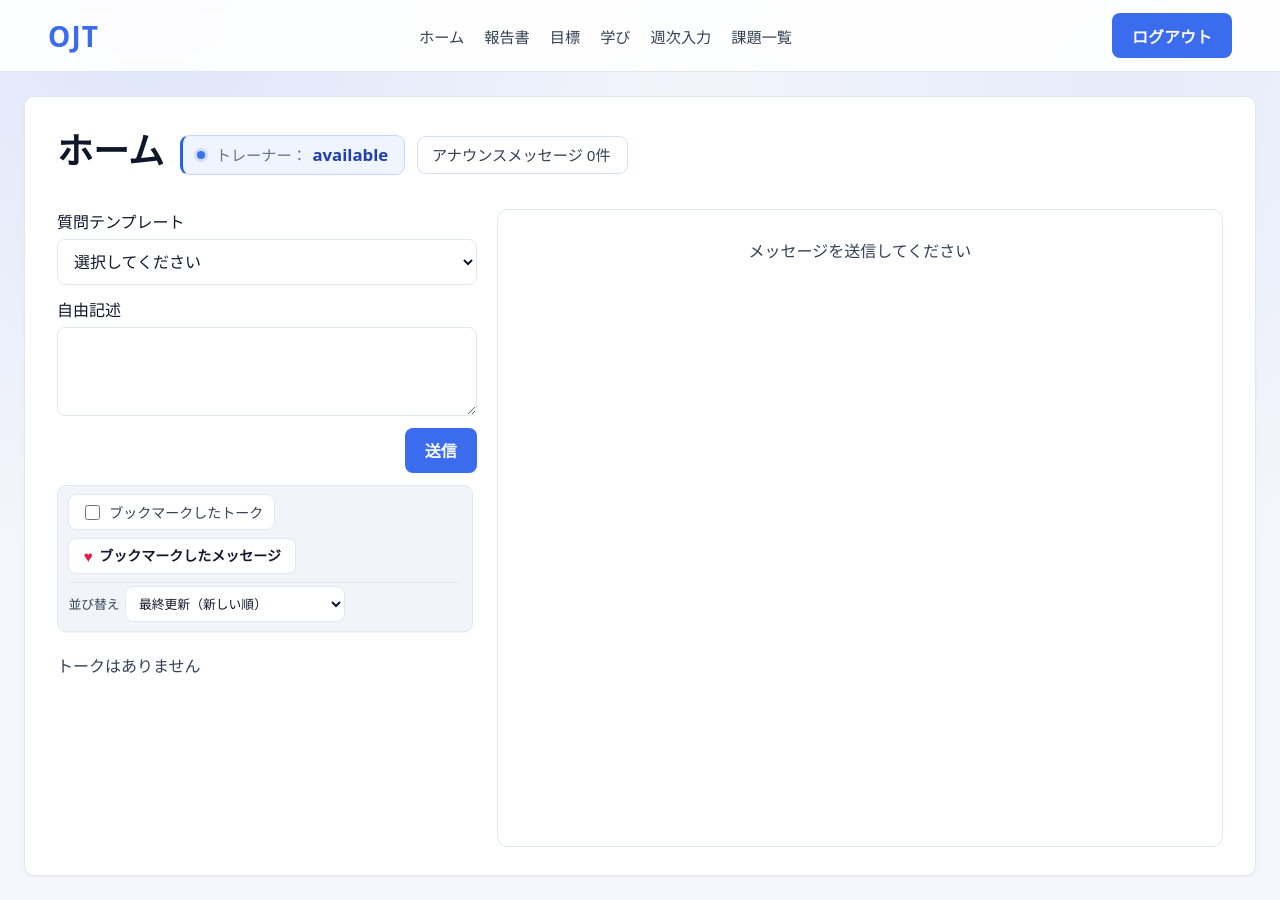
Test: 目標 UI › U-G25 新卒・ヘッダー「目標」からの遷移 › ヘッダー目標から遷移_goalsでガントが表示される
Step 1. Click the link "目標" → click(565, 36), box left=550, top=24, right=580, bottom=46
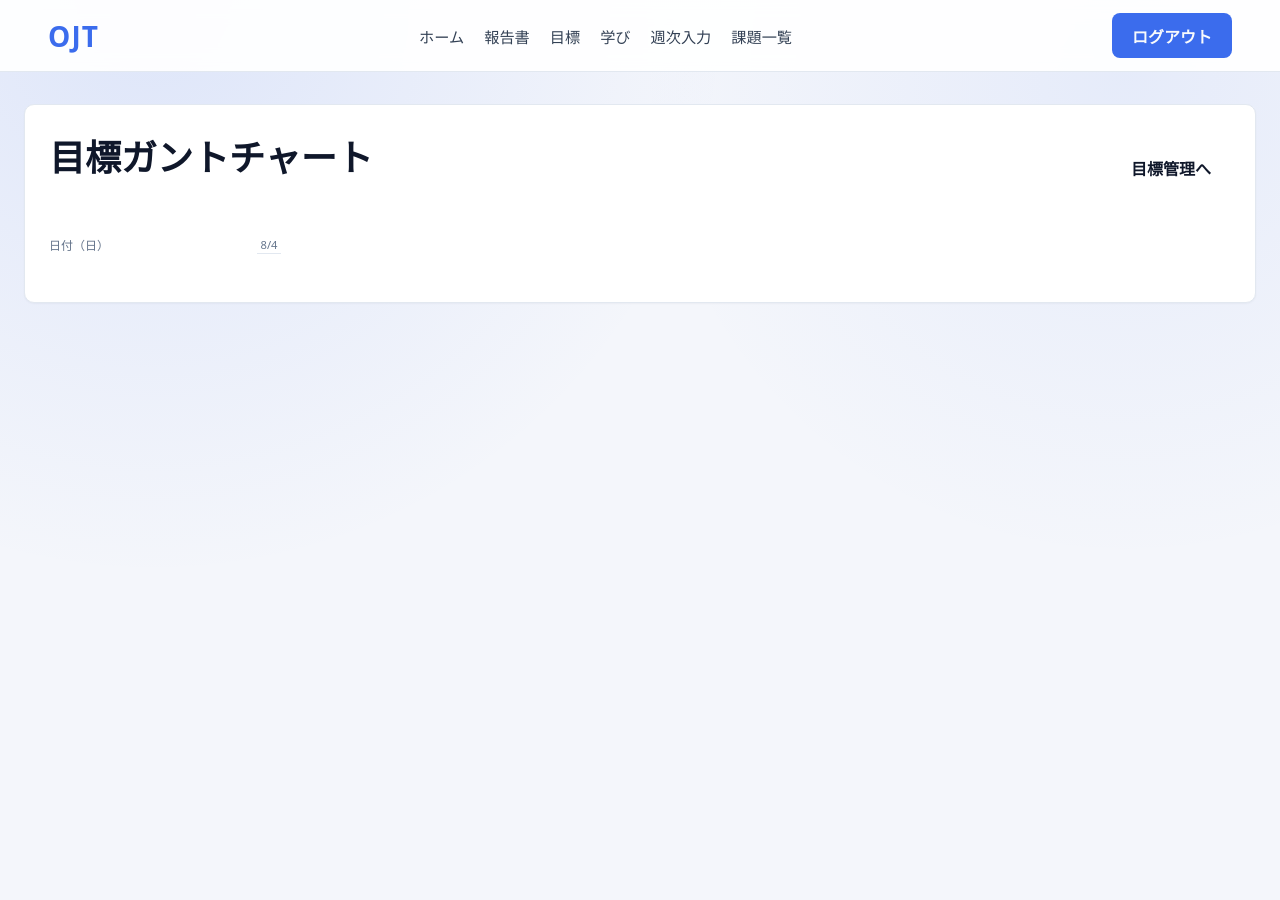
Expected: the heading "目標ガントチャート" is shown, left=49, top=129, right=373, bottom=182
Expected: the element "目標ガントチャート" is shown, left=24, top=104, right=1256, bottom=303
